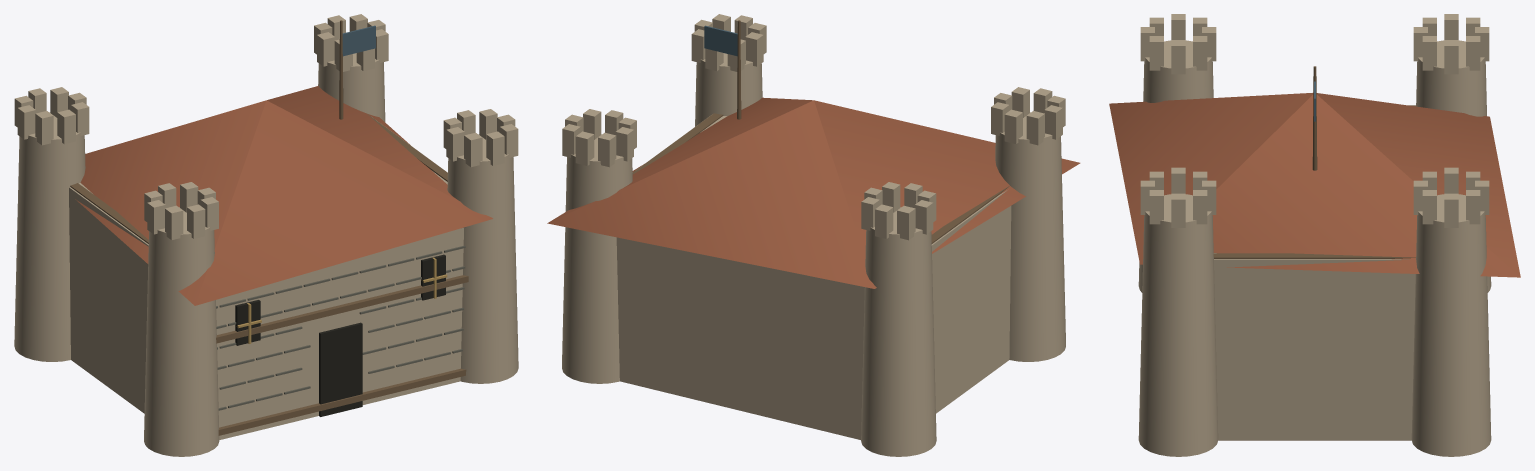
The model's file is b-landmark-castilian.glb.
3 renders of one model, left to right at view 1: azimuth 30°, elevation 25°; view 2: azimuth 150°, elevation 25°; view 3: azimuth 270°, elevation 25°, orthographic. The views are drawn at different scales.
Visible parts, largest first — view 1: Structure; view 2: Structure; view 3: Structure.
Part boxes in pixels (bbox=[...]): Structure: bbox=[14, 14, 518, 456]; Structure: bbox=[547, 14, 1080, 456]; Structure: bbox=[1109, 14, 1520, 456].
Bounding box in the file's own units: 7.8 × 6.52 × 7.24.
